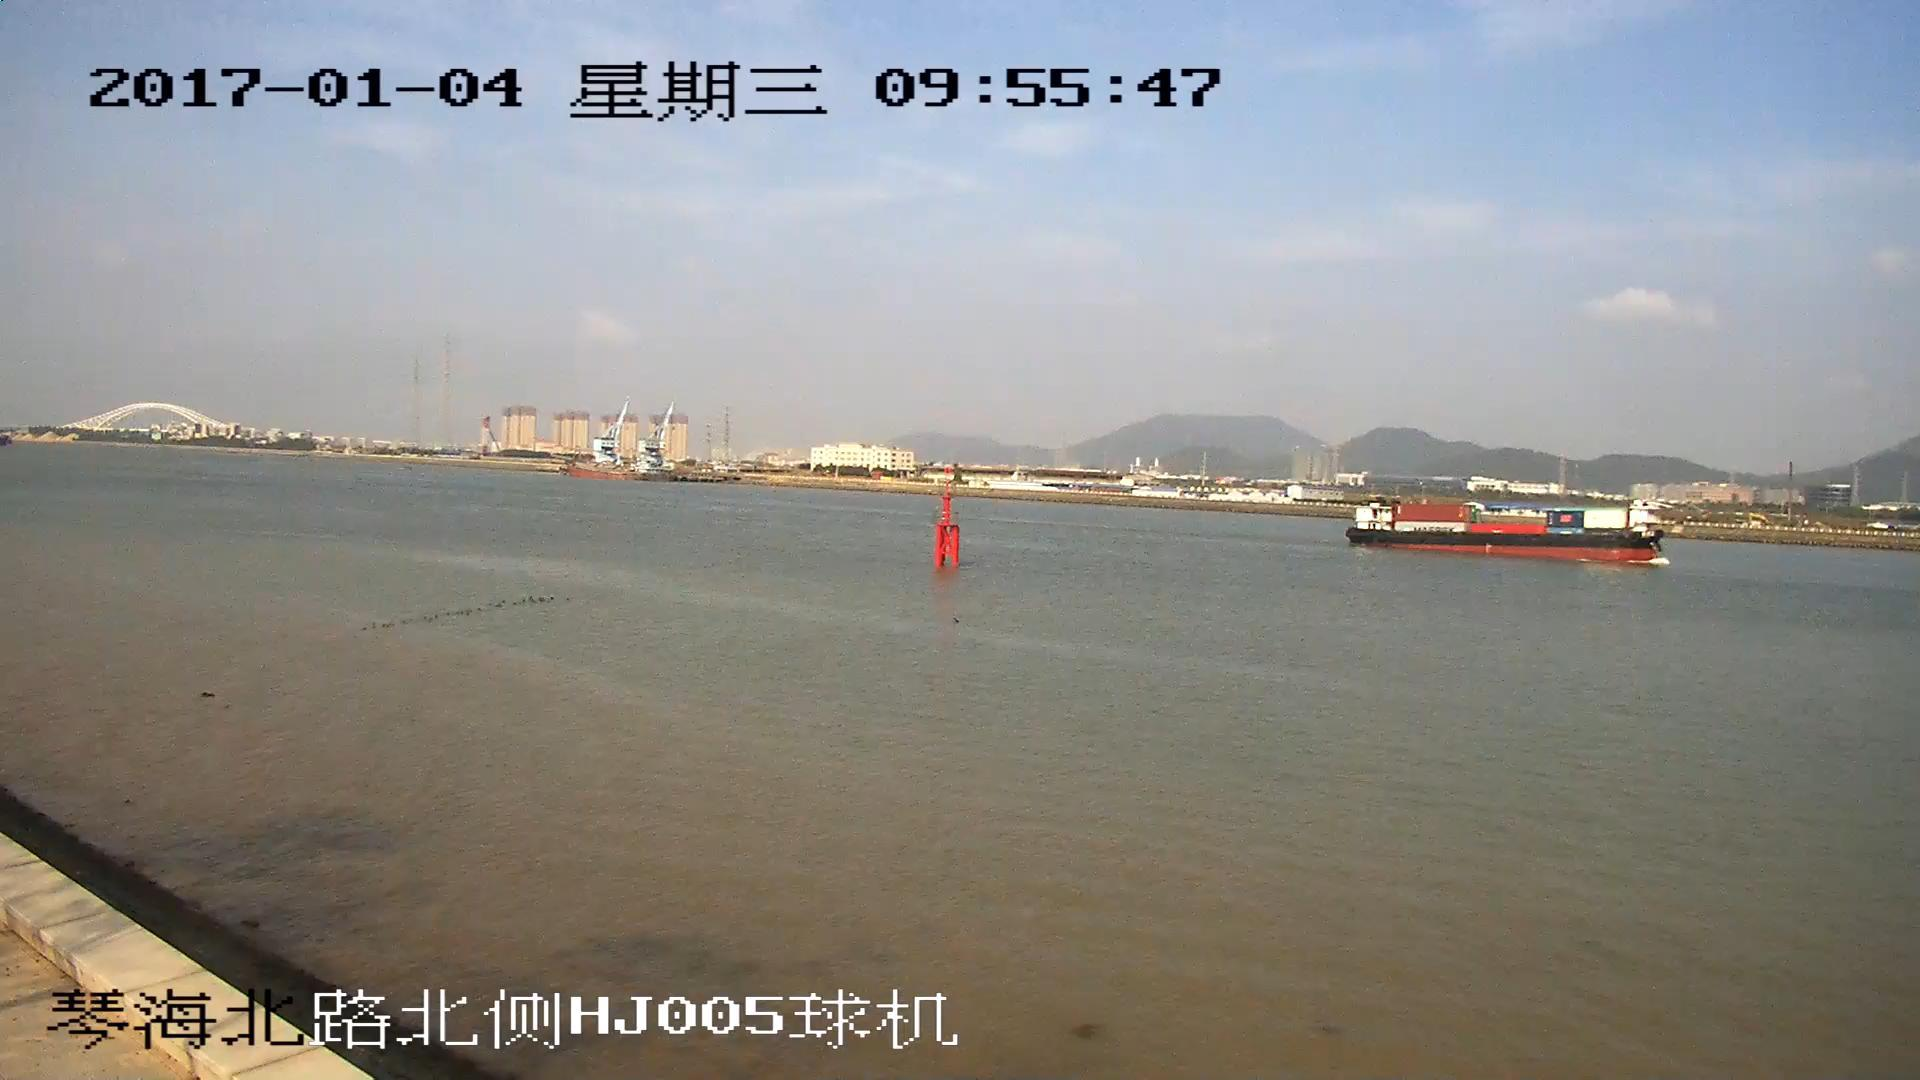Ship: (1350, 495, 1664, 566)
